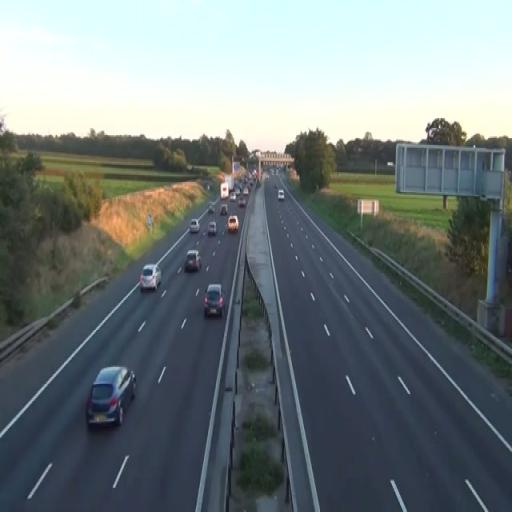Car: (85, 365, 137, 429), (204, 283, 225, 319), (139, 264, 162, 292), (184, 250, 202, 272), (227, 215, 239, 233), (207, 221, 218, 236), (190, 219, 200, 233), (220, 204, 228, 216)
